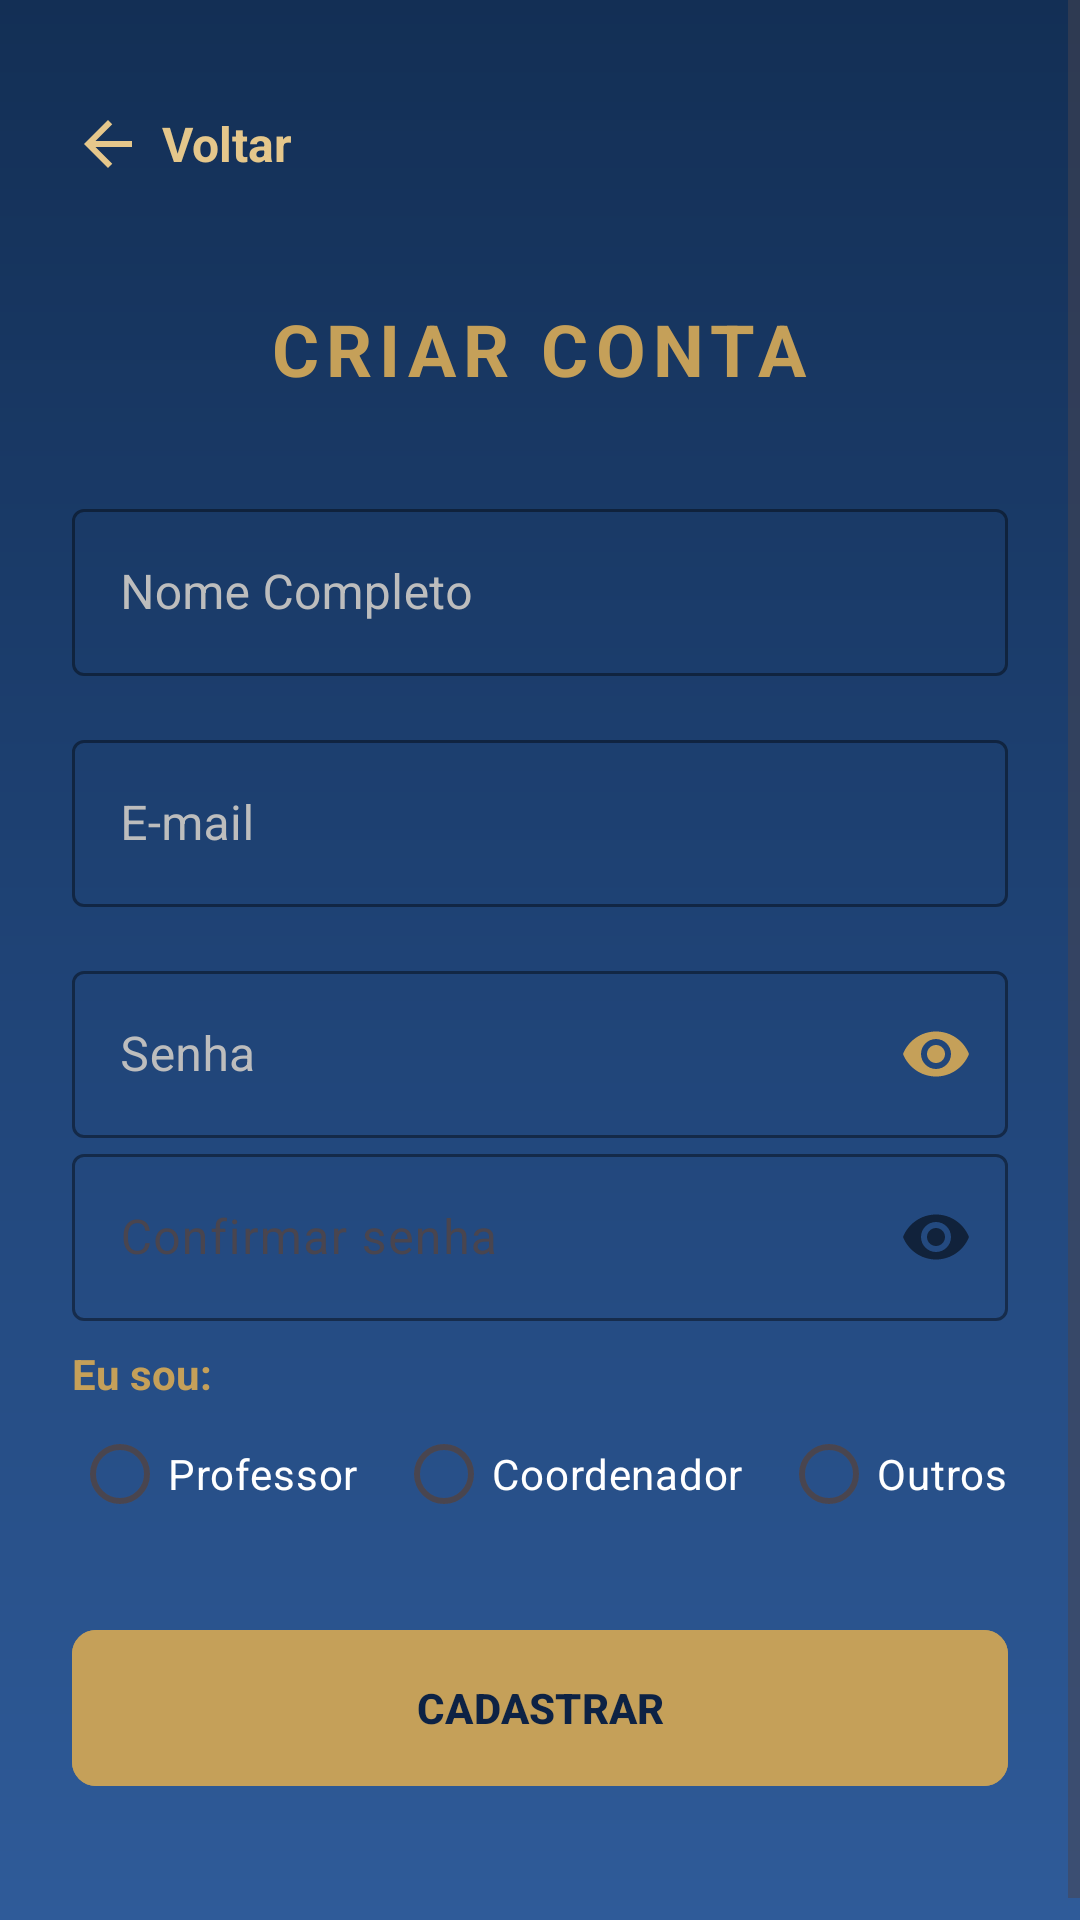

Named icons in this screenshot (1080w x 1920h) and their bounding boxes, detection(x1, y1, x2, y2):
arrow back yarooms: detection(84, 120, 132, 168)
